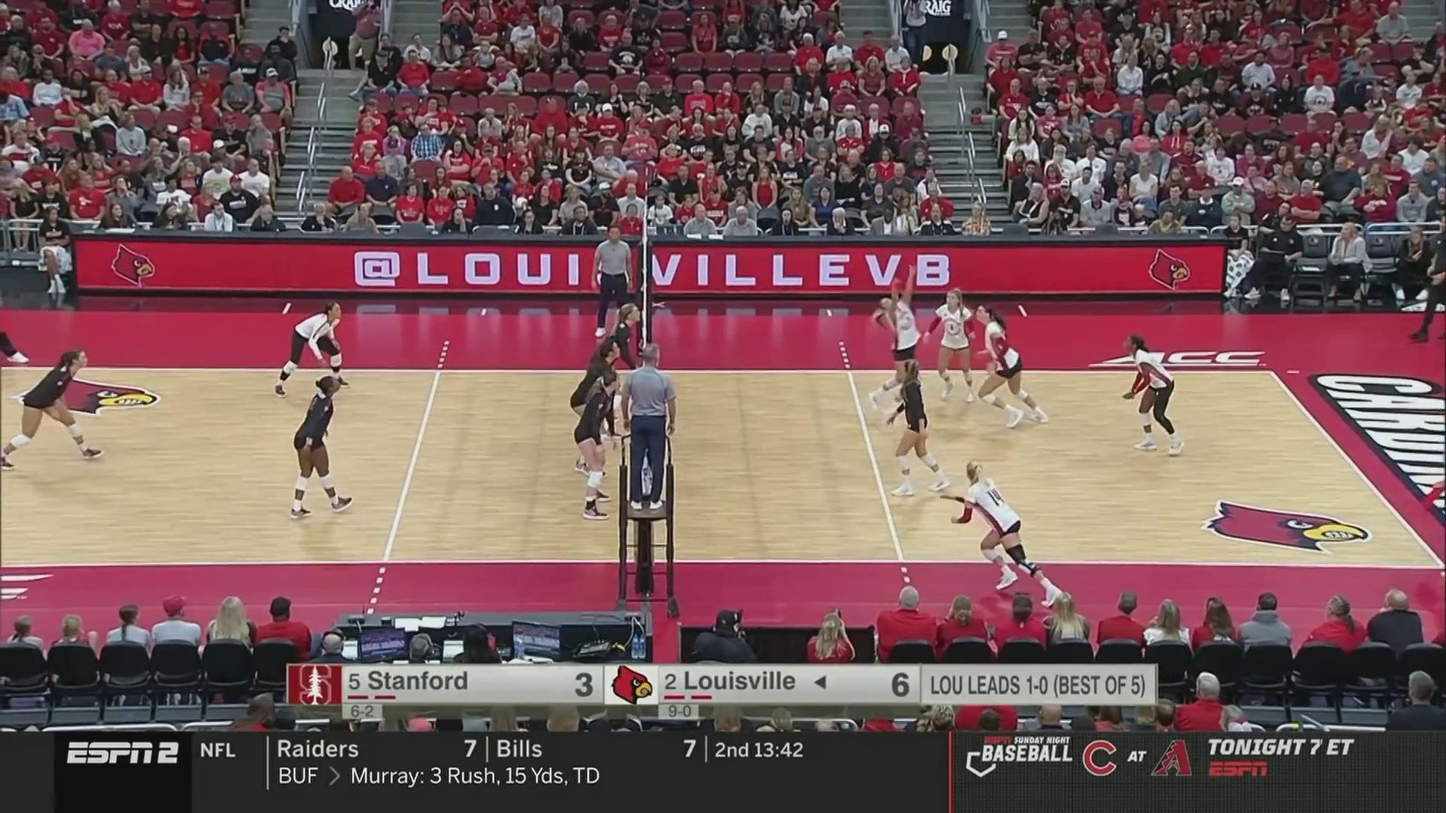player: (946, 462, 1067, 608), (0, 354, 105, 470), (975, 304, 1051, 429), (291, 373, 351, 516), (886, 359, 947, 497), (865, 284, 927, 419), (1120, 335, 1184, 454), (576, 370, 628, 515), (274, 305, 354, 396), (569, 339, 619, 479), (594, 298, 640, 436), (930, 288, 978, 402)
refree: (620, 355, 681, 517), (589, 225, 634, 342)
